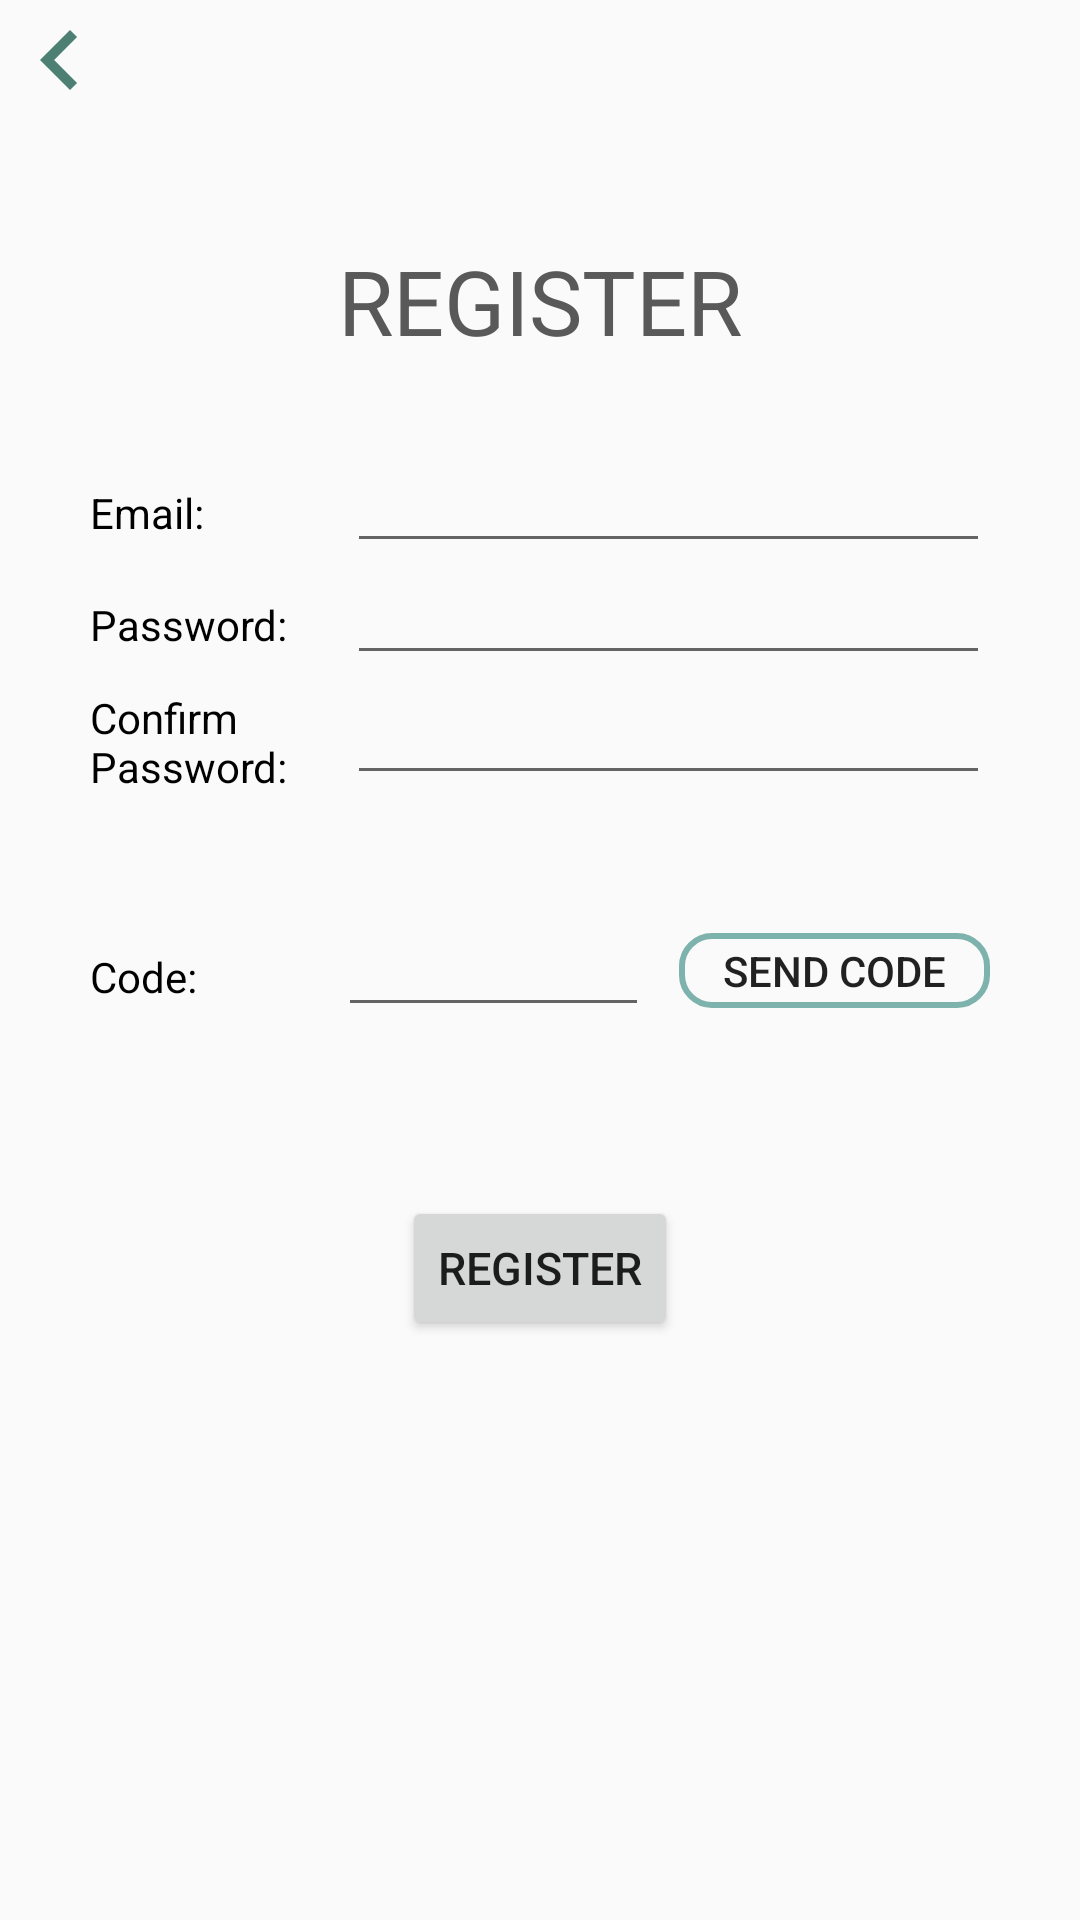

Screen size 1080x1920. Icon name, then its box in pixels as (x1, y1, x2, y2):
keyboard arrow left: (40, 30, 77, 90)
